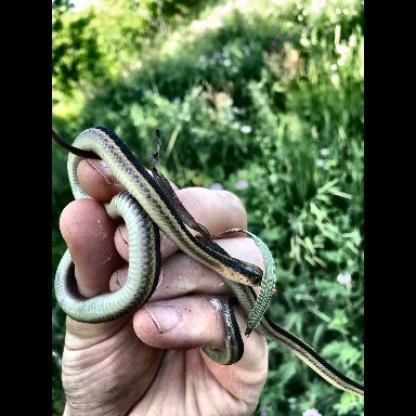Snake: (57, 128, 276, 372)
